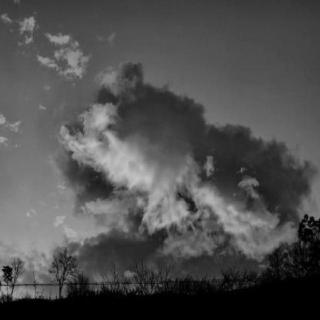Fire: (54, 87, 308, 287)
